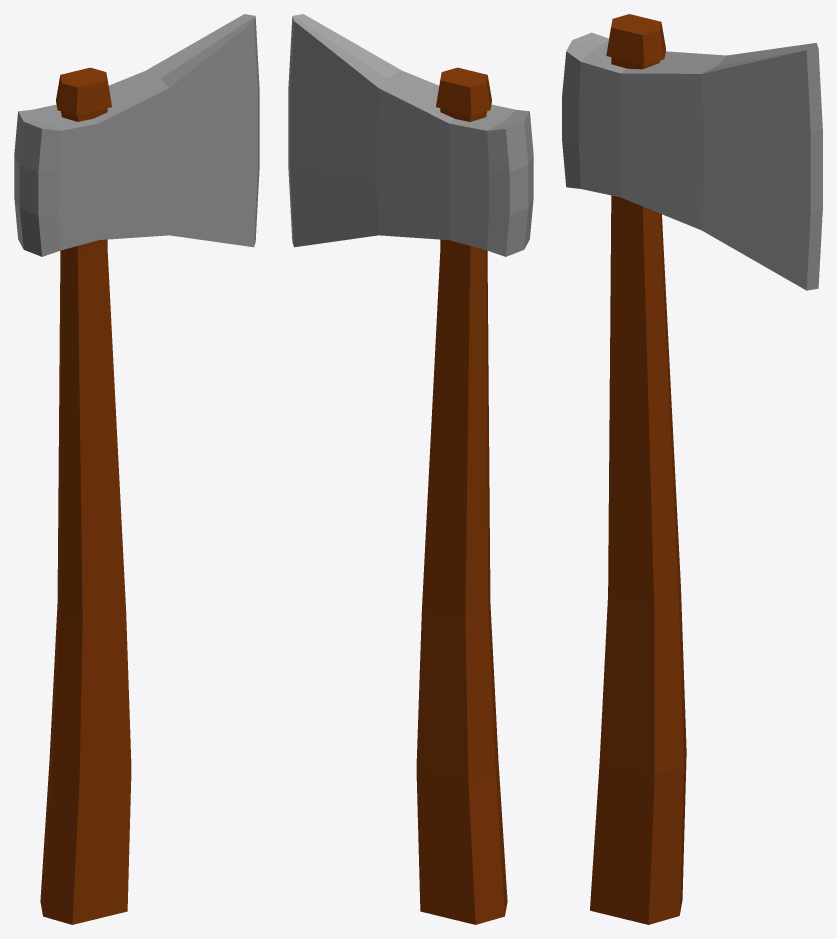
The model's file is Axe.fbx.
3 views of the same model, side by side, from view 1: azimuth 30°, elevation 25°; view 2: azimuth 150°, elevation 25°; view 3: azimuth 330°, elevation 25° (orthographic). The views are drawn at different scales.
Parts seen in each view (by area): view 1: Axe; view 2: Axe; view 3: Axe.
Part boxes in pixels (box(x1,y1,x2,y2)): Axe: box(14, 14, 259, 924); Axe: box(288, 14, 533, 924); Axe: box(562, 14, 822, 924).
Size of the model in its own units: 0.411 by 1.39 by 0.0947.
